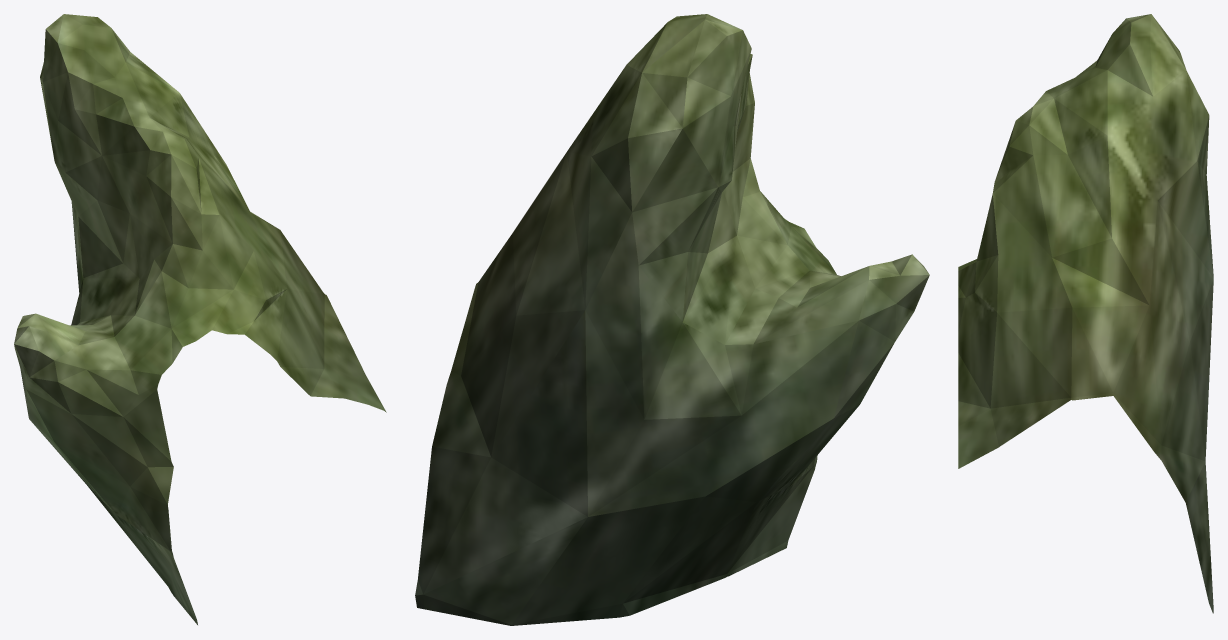
3 renders of one model, left to right at view 1: azimuth 30°, elevation 25°; view 2: azimuth 150°, elevation 25°; view 3: azimuth 270°, elevation 25°, orthographic. The views are drawn at different scales.
Size of the model in its own units: 1.48 by 2.24 by 1.01.
Materials: 2 (2 with a texture image).
